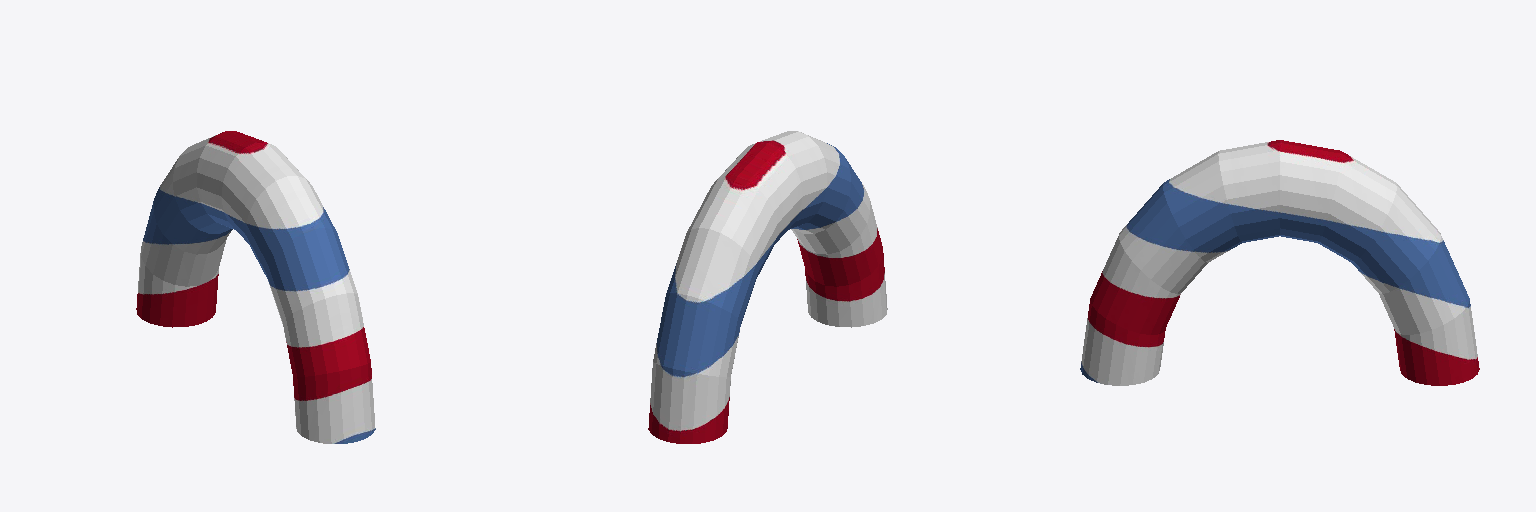
3 renders of one model, left to right at view 1: azimuth 30°, elevation 25°; view 2: azimuth 150°, elevation 25°; view 3: azimuth 270°, elevation 25°, orthographic.
Visible parts, largest first — view 1: pTorus1; view 2: pTorus1; view 3: pTorus1.
Part boxes in pixels (left/top/right/bottom): pTorus1: left=136, top=131, right=375, bottom=443; pTorus1: left=648, top=131, right=887, bottom=443; pTorus1: left=1080, top=140, right=1479, bottom=385.
Bounding box in the file's own units: 1.41 × 4.42 × 7.06.
Materials: 1 (1 with a texture image).